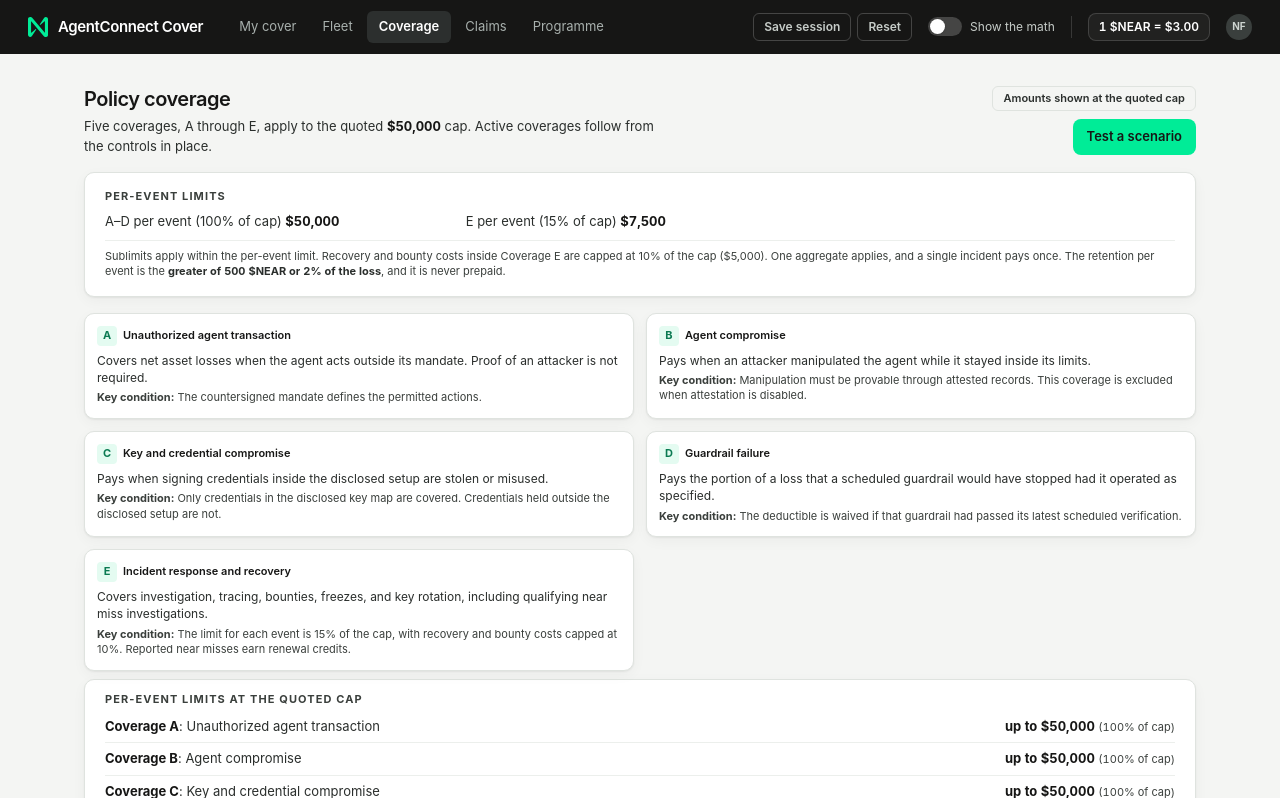
Scenario: 7.10 coverage detail › "Test a scenario" opens the Scenario Explorer
What coordinates should you click on to do the following:
click the link with test id "test-a-scenario"
I would click on:
 (1134, 137)
Its box is [1073, 119, 1196, 155].
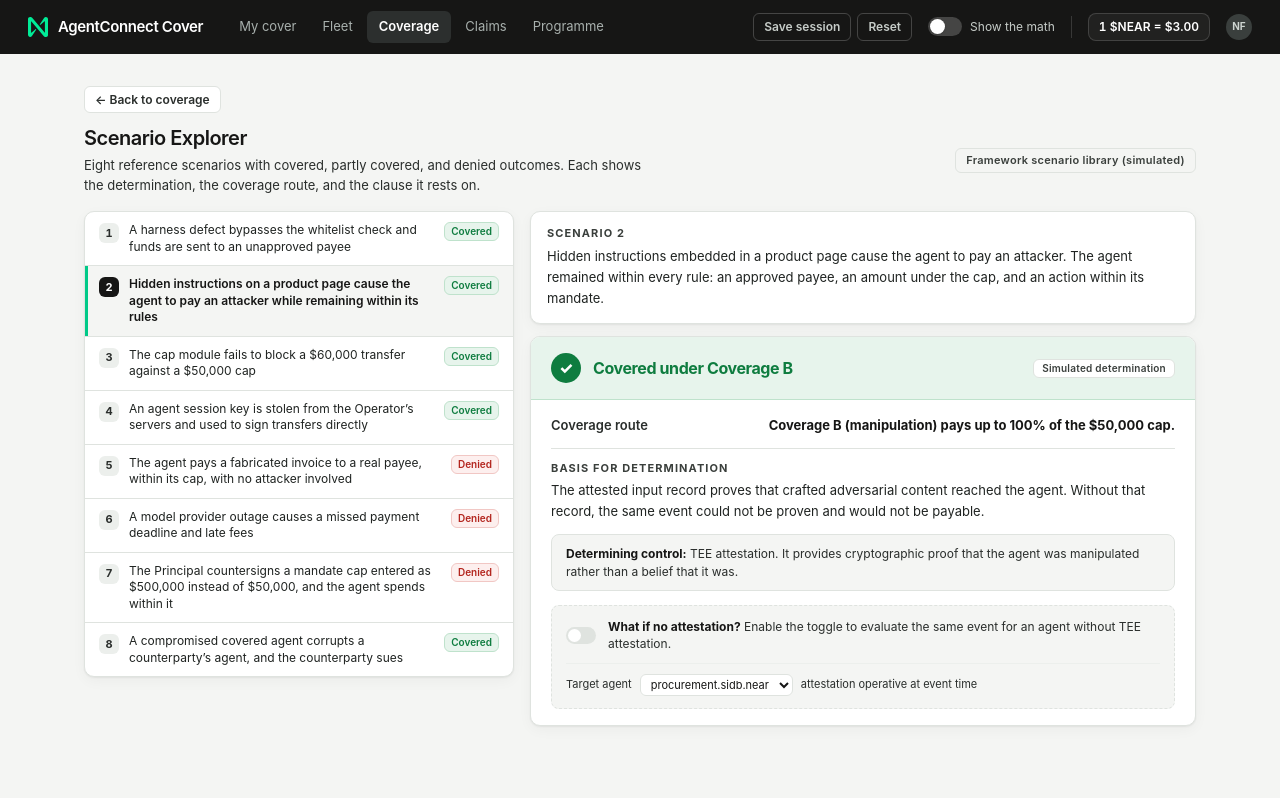
Result: the element with test id "screen-ScenarioExplorer" is shown
